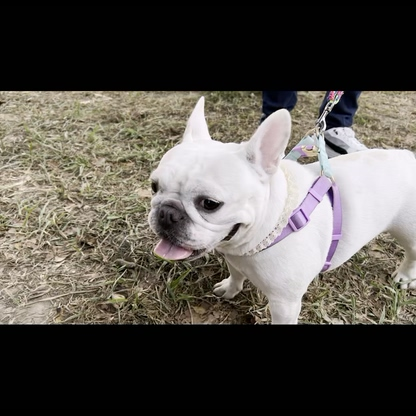bulldog: (144, 94, 416, 321)
